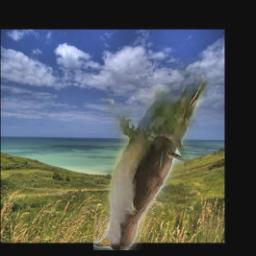Cuckoo: (93, 57, 220, 251)
